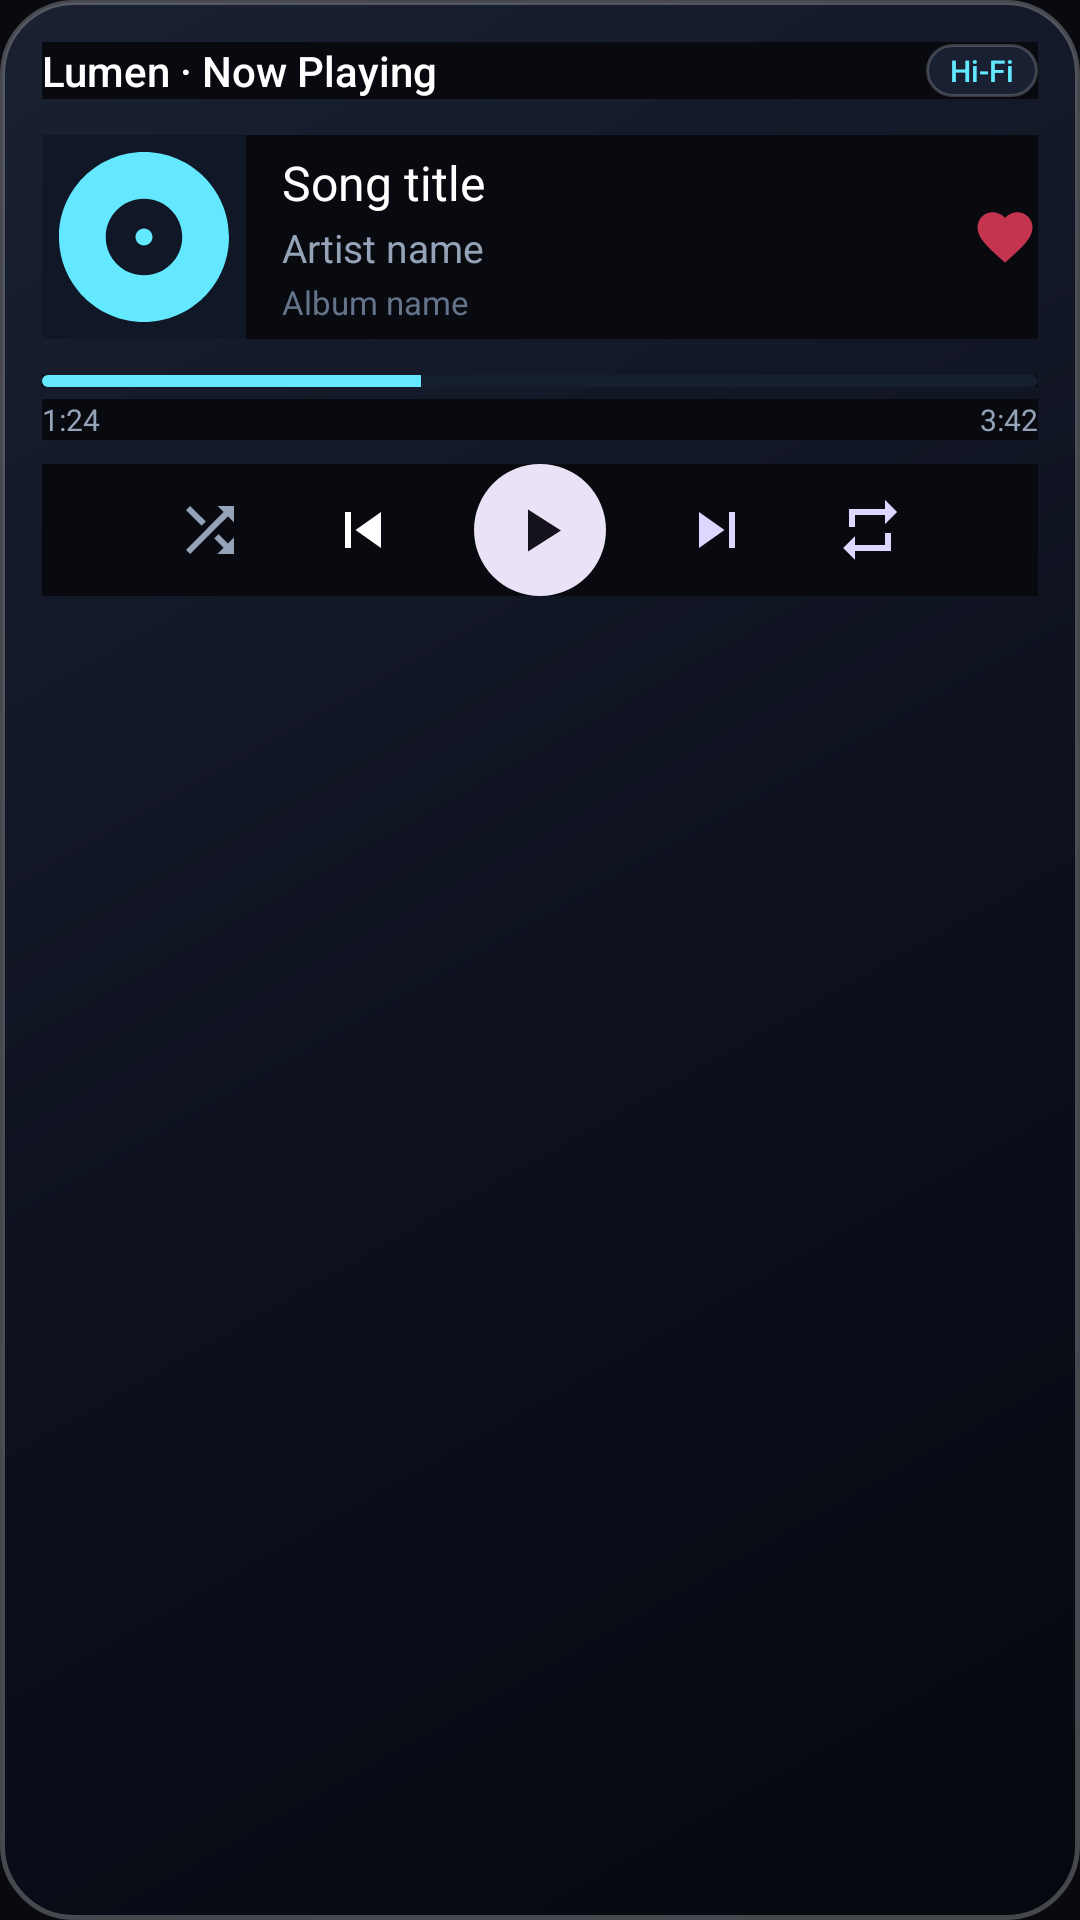

Screen size 1080 × 1920. Icon name, then its center in pixels as [x,y]:
Next: [717,530]
Play/Pause: [540,530]
Previous: [363,530]
Repeat: [870,530]
Shuffle: [210,530]
widget disc: [144,237]
widget heart: [1005,237]
